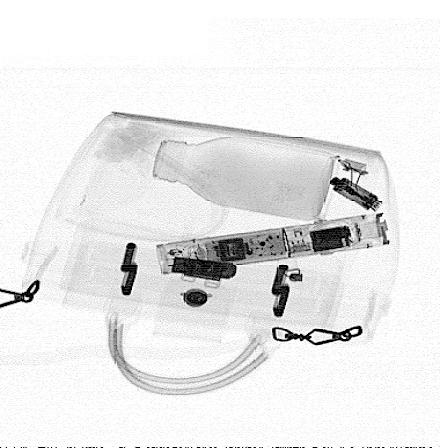Baton: (153, 210, 392, 276)
